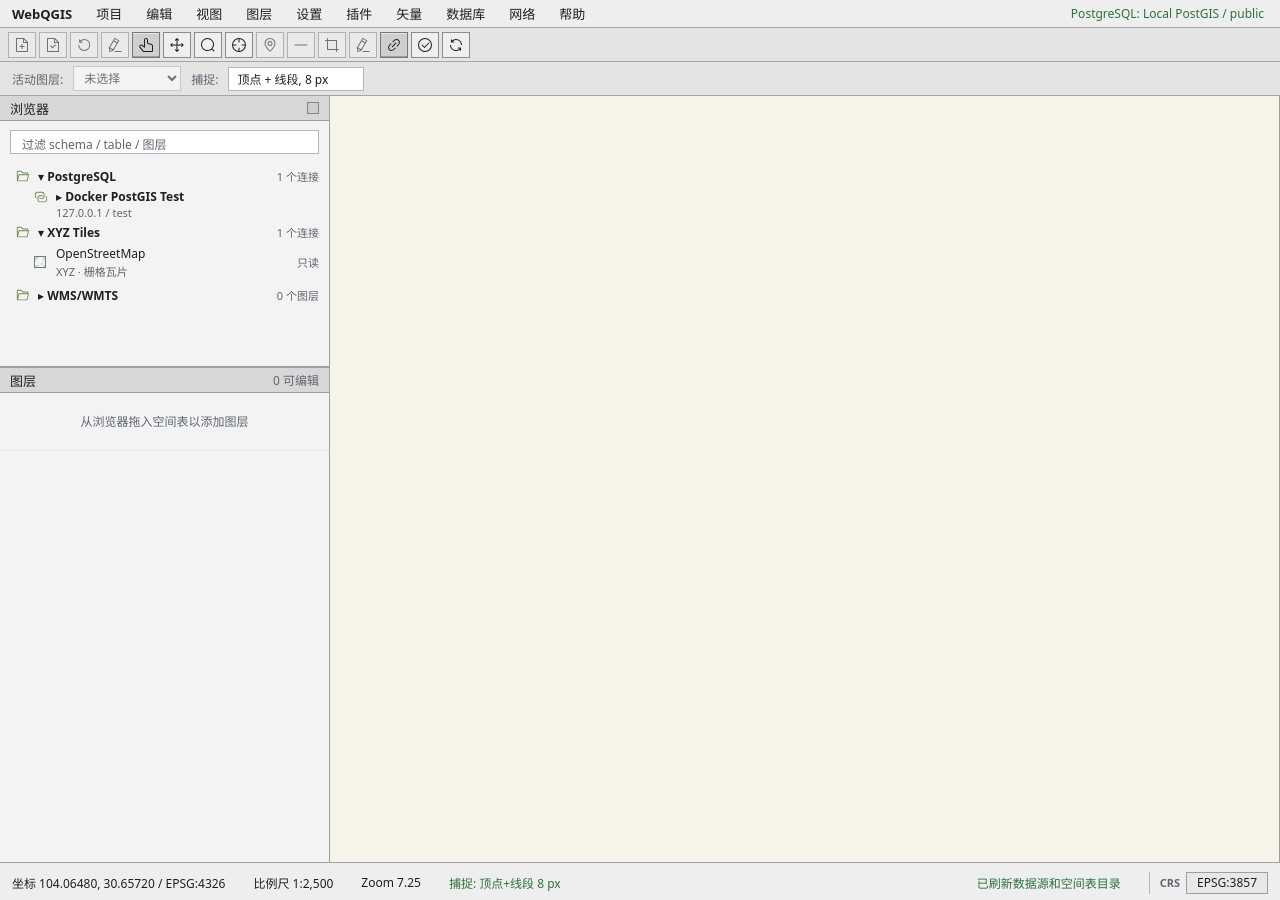
Scenario: WebGisWorkbench › opens the PostGIS connection dialog from the database menu command
Click the button with class "workbench__menu-item" showing "数据库".
click(466, 14)  # box [434,0,497,27]
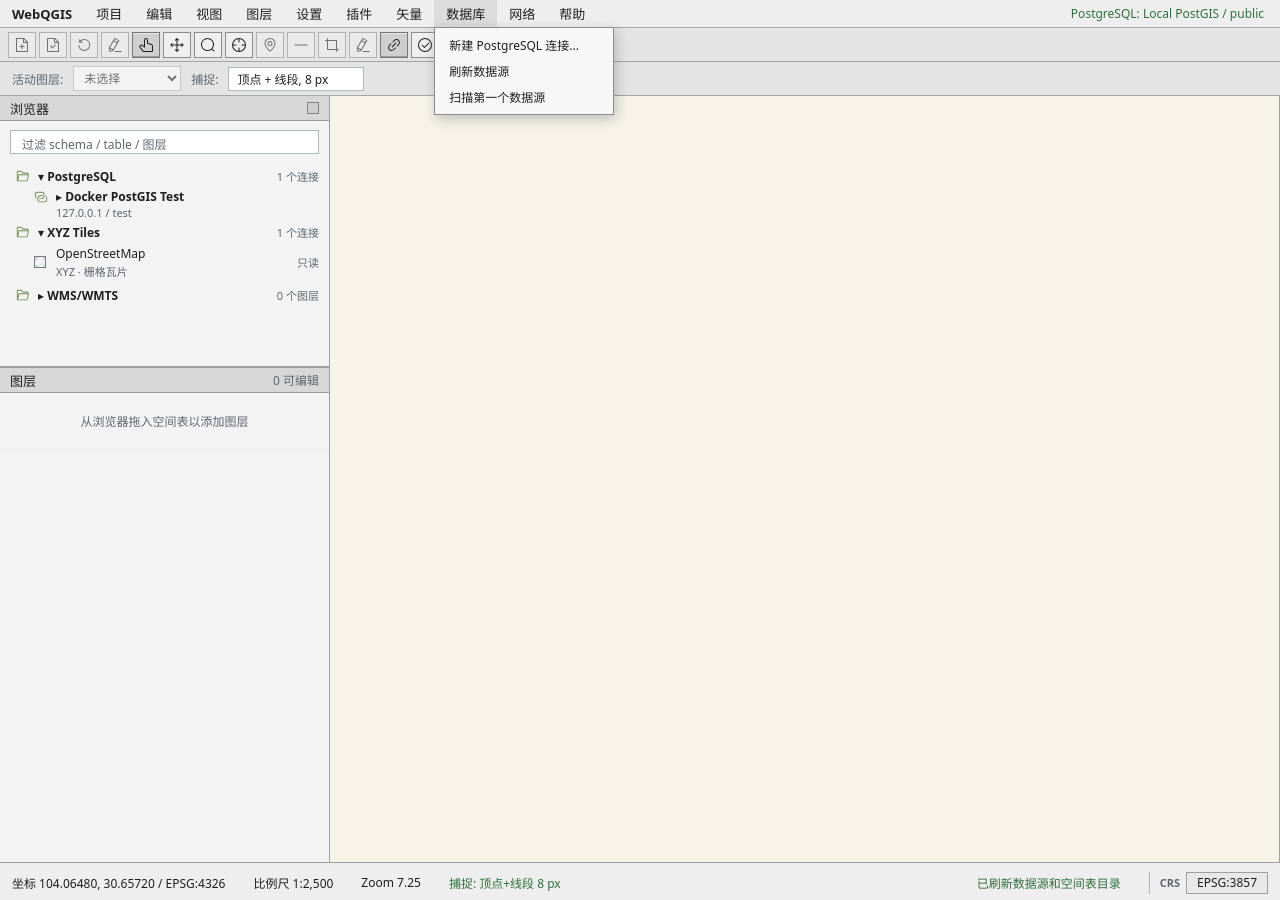
Expected: the menu item with class "workbench__menu-command" showing "新建 PostgreSQL 连接..." is shown
Click the menu item with class "workbench__menu-command" showing "新建 PostgreSQL 连接...".
click(524, 45)  # box [439,32,609,58]
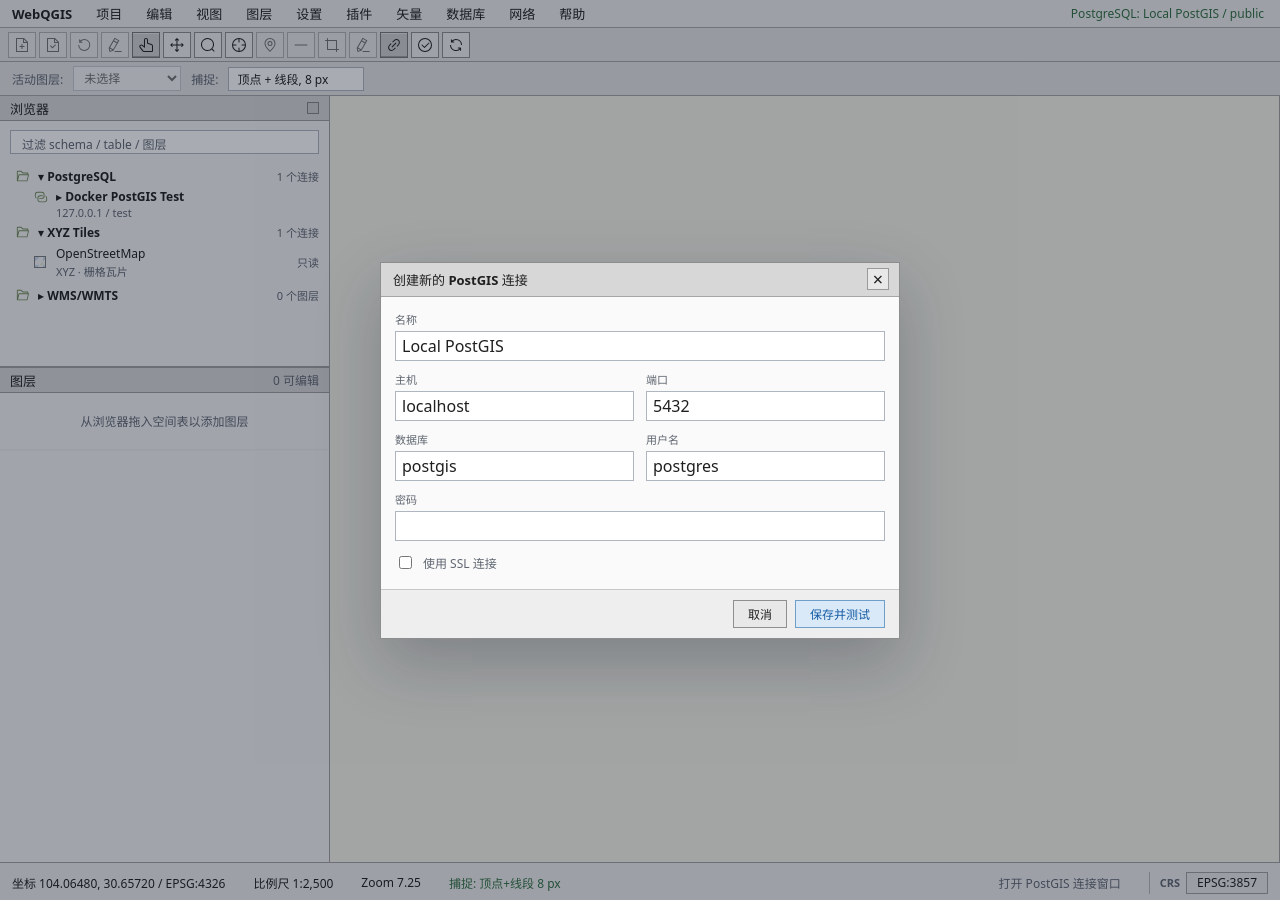
Expected: the text "创建新的 PostGIS 连接" is shown, [393,270,528,288]
Expected: the text "保存并测试" is shown, [795,600,885,628]
